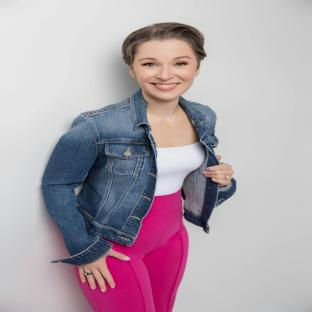Human: (42, 23, 236, 312)
